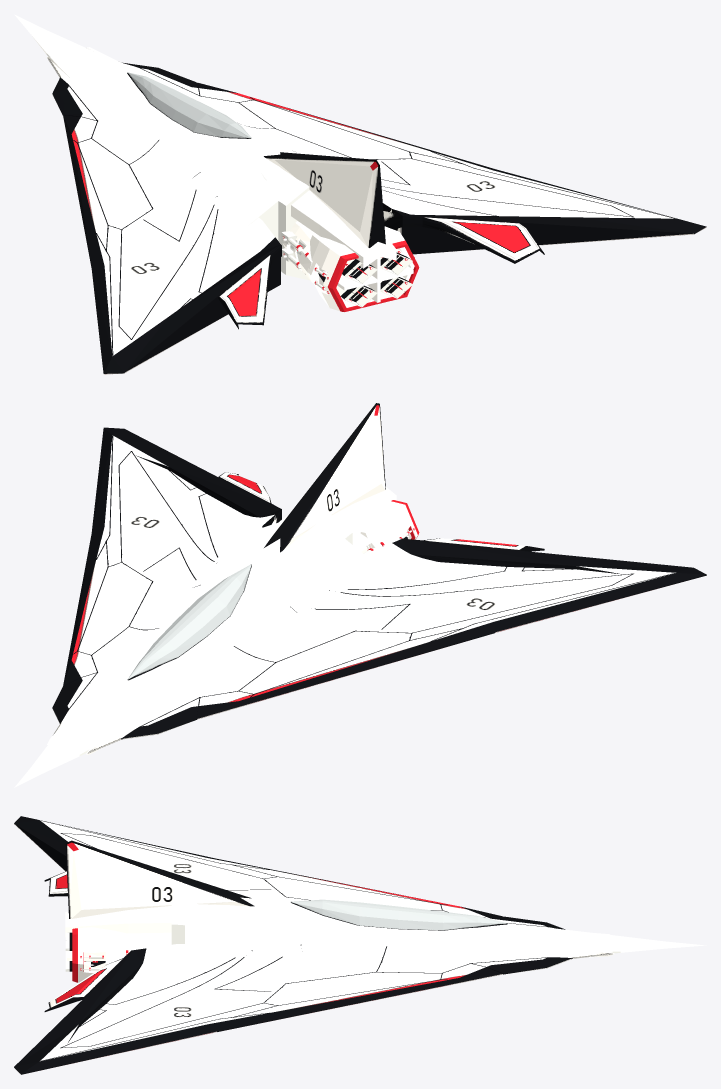
Rendered from C_comic.glb.
The picture shows the model from 3 angles, top to bottom: view 1: azimuth 30°, elevation 25°; view 2: azimuth 150°, elevation 25°; view 3: azimuth 270°, elevation 25°; orthographic projection. The views are drawn at different scales.
Parts seen in each view (by area): view 1: AF_MAIN_WING_L_01, AF_MAIN_WING_R_01, AF_BODY_01, AF_MATCH_TAIL_CENTER, AF_REAR_WING_R2_R_flush_trailing_extension_no_intrusion, AF_DOME_CENTER_01, AF_MATCH_AFT_SADDLE, AF_REAR_WING_R2_R_flush_trailing_extension_no_intrusion_L, AF_ENGINE_E3_common_hexagonal_armored_housing, AF_ENGINE_E3_common_mouth_beveled_rim, AF_ENGINE_E3_single_bell_distribution_housing, AF_ENGINE_E3_central_horizontal_cell_web; view 2: AF_MAIN_WING_L_01, AF_MAIN_WING_R_01, AF_BODY_01, AF_MATCH_TAIL_CENTER, AF_DOME_CENTER_01, AF_MATCH_AFT_SADDLE, AF_ENGINE_E3_common_hexagonal_armored_housing, AF_REAR_WING_R2_R_flush_trailing_extension_no_intrusion, AF_REAR_WING_R2_R_flush_trailing_extension_no_intrusion_L; view 3: AF_MAIN_WING_R_01, AF_BODY_01, AF_MAIN_WING_L_01, AF_MATCH_TAIL_CENTER, AF_DOME_CENTER_01, AF_MATCH_AFT_SADDLE, AF_ENGINE_E3_common_hexagonal_armored_housing, AF_REAR_WING_R2_R_flush_trailing_extension_no_intrusion, AF_ENGINE_E3_single_bell_distribution_housing, AF_REAR_WING_R2_R_flush_trailing_extension_no_intrusion_L.
Boxes of the visible parts, <box> form: AF_MAIN_WING_L_01: <box>47,56,280,374</box>; AF_MAIN_WING_R_01: <box>86,47,706,254</box>; AF_BODY_01: <box>14,14,309,280</box>; AF_MATCH_TAIL_CENTER: <box>264,152,385,247</box>; AF_REAR_WING_R2_R_flush_trailing_extension_no_intrusion: <box>383,211,544,263</box>; AF_DOME_CENTER_01: <box>127,72,251,138</box>; AF_MATCH_AFT_SADDLE: <box>261,162,396,268</box>; AF_REAR_WING_R2_R_flush_trailing_extension_no_intrusion_L: <box>218,245,281,329</box>; AF_ENGINE_E3_common_hexagonal_armored_housing: <box>307,226,414,310</box>; AF_ENGINE_E3_common_mouth_beveled_rim: <box>327,240,419,311</box>; AF_ENGINE_E3_single_bell_distribution_housing: <box>282,221,315,283</box>; AF_ENGINE_E3_central_horizontal_cell_web: <box>322,266,413,290</box>; AF_MAIN_WING_L_01: <box>86,539,706,754</box>; AF_MAIN_WING_R_01: <box>47,427,280,744</box>; AF_BODY_01: <box>14,513,375,787</box>; AF_MATCH_TAIL_CENTER: <box>264,403,385,552</box>; AF_DOME_CENTER_01: <box>127,564,251,680</box>; AF_MATCH_AFT_SADDLE: <box>261,487,396,554</box>; AF_ENGINE_E3_common_hexagonal_armored_housing: <box>360,501,417,548</box>; AF_REAR_WING_R2_R_flush_trailing_extension_no_intrusion: <box>218,472,281,524</box>; AF_REAR_WING_R2_R_flush_trailing_extension_no_intrusion_L: <box>402,538,544,551</box>; AF_MAIN_WING_R_01: <box>14,944,614,1074</box>; AF_BODY_01: <box>171,897,706,957</box>; AF_MAIN_WING_L_01: <box>14,816,610,934</box>; AF_MATCH_TAIL_CENTER: <box>65,840,254,918</box>; AF_DOME_CENTER_01: <box>290,899,507,930</box>; AF_MATCH_AFT_SADDLE: <box>65,905,238,936</box>; AF_ENGINE_E3_common_hexagonal_armored_housing: <box>78,927,137,982</box>; AF_REAR_WING_R2_R_flush_trailing_extension_no_intrusion: <box>44,950,132,1011</box>; AF_ENGINE_E3_single_bell_distribution_housing: <box>112,932,171,960</box>; AF_REAR_WING_R2_R_flush_trailing_extension_no_intrusion_L: <box>44,871,67,896</box>.
Bounding box in the file's own units: 12.4 × 3.23 × 14.07.
21 materials, 8 textured.
